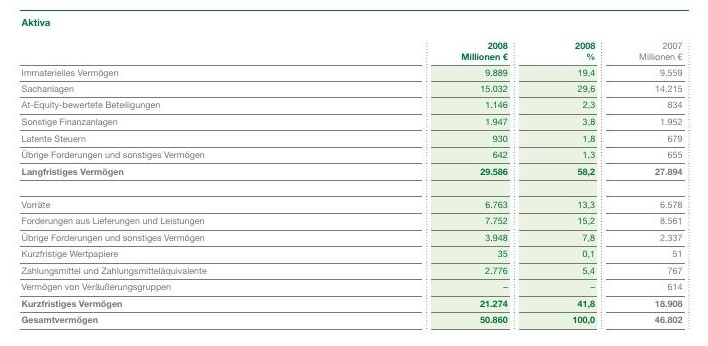table: (0, 0, 708, 346)
